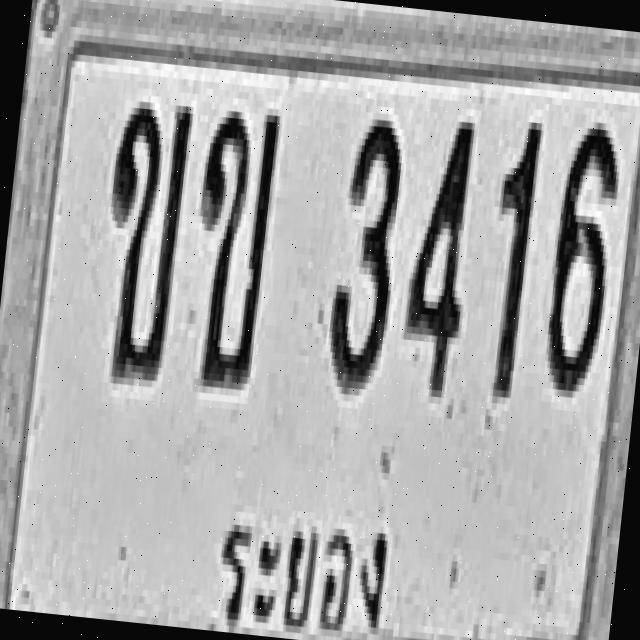1: (476, 83, 560, 433)
11KhorKhai: (174, 74, 296, 418), (80, 75, 206, 398)
3: (310, 93, 404, 416)
4: (390, 86, 483, 426)
6: (530, 96, 632, 437)
Rayong: (184, 470, 456, 640)
